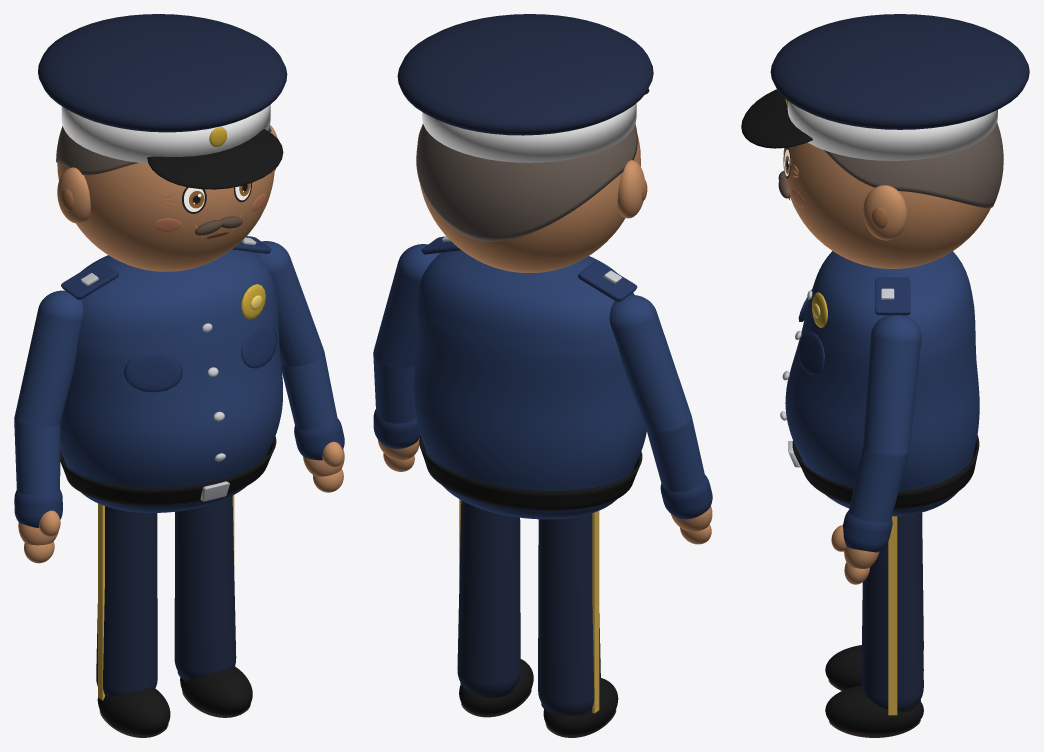
Rendered from pestkop_agent.glb.
3 renders of one model, left to right at view 1: azimuth 30°, elevation 25°; view 2: azimuth 150°, elevation 25°; view 3: azimuth 270°, elevation 25°, orthographic. The views are drawn at different scales.
Visible parts, largest first — view 1: pestkop_agent_romp, pestkop_agent_pet_bol, pestkop_agent_hoofd, pestkop_agent_been_L, pestkop_agent_been_R, pestkop_agent_bovenarm_R, pestkop_agent_pet_band, pestkop_agent_pet_klep, pestkop_agent_bovenarm_L, pestkop_agent_riem, pestkop_agent_onderarm_R, pestkop_agent_onderarm_L (+11 smaller); view 2: pestkop_agent_romp, pestkop_agent_pet_bol, pestkop_agent_haar, pestkop_agent_been_L, pestkop_agent_been_R, pestkop_agent_hoofd, pestkop_agent_bovenarm_R, pestkop_agent_pet_band, pestkop_agent_riem, pestkop_agent_bovenarm_L, pestkop_agent_onderarm_R, pestkop_agent_onderarm_L (+7 smaller); view 3: pestkop_agent_romp, pestkop_agent_pet_bol, pestkop_agent_hoofd, pestkop_agent_been_L, pestkop_agent_haar, pestkop_agent_bovenarm_L, pestkop_agent_pet_band, pestkop_agent_onderarm_L, pestkop_agent_schoen_L, pestkop_agent_riem, pestkop_agent_pet_klep, pestkop_agent_broekstreep_L (+6 smaller).
Part boxes in pixels (box(x1,y1,x2,y2)): pestkop_agent_romp: box(60, 249, 282, 512); pestkop_agent_pet_bol: box(38, 14, 287, 132); pestkop_agent_hoofd: box(57, 132, 274, 271); pestkop_agent_been_L: box(174, 496, 236, 679); pestkop_agent_been_R: box(96, 506, 157, 696); pestkop_agent_bovenarm_R: box(15, 290, 83, 427); pestkop_agent_pet_band: box(61, 104, 270, 163); pestkop_agent_pet_klep: box(147, 129, 283, 189); pestkop_agent_bovenarm_L: box(252, 241, 323, 366); pestkop_agent_riem: box(60, 436, 276, 505); pestkop_agent_onderarm_R: box(14, 421, 60, 495); pestkop_agent_onderarm_L: box(281, 353, 337, 429); pestkop_agent_romp: box(413, 250, 646, 519); pestkop_agent_pet_bol: box(397, 14, 653, 135); pestkop_agent_haar: box(416, 124, 637, 241); pestkop_agent_been_L: box(457, 500, 520, 695); pestkop_agent_been_R: box(538, 513, 601, 714); pestkop_agent_hoofd: box(420, 134, 640, 272); pestkop_agent_bovenarm_R: box(609, 295, 691, 434); pestkop_agent_pet_band: box(422, 103, 636, 162); pestkop_agent_riem: box(419, 436, 642, 510); pestkop_agent_bovenarm_L: box(374, 244, 441, 368); pestkop_agent_onderarm_R: box(646, 417, 705, 491); pestkop_agent_onderarm_L: box(373, 351, 416, 423); pestkop_agent_romp: box(785, 251, 979, 516); pestkop_agent_pet_bol: box(770, 14, 1029, 129); pestkop_agent_hoofd: box(783, 142, 990, 268); pestkop_agent_been_L: box(862, 512, 923, 710); pestkop_agent_haar: box(824, 122, 1003, 208); pestkop_agent_bovenarm_L: box(863, 314, 921, 458); pestkop_agent_pet_band: box(787, 101, 997, 160); pestkop_agent_onderarm_L: box(849, 446, 908, 522); pestkop_agent_schoen_L: box(825, 685, 923, 733); pestkop_agent_riem: box(792, 435, 979, 509); pestkop_agent_pet_klep: box(741, 89, 812, 148); pestkop_agent_broekstreep_L: box(888, 516, 897, 715).
Bounding box in the file's own units: 0.9479 × 1.85 × 0.7273.
